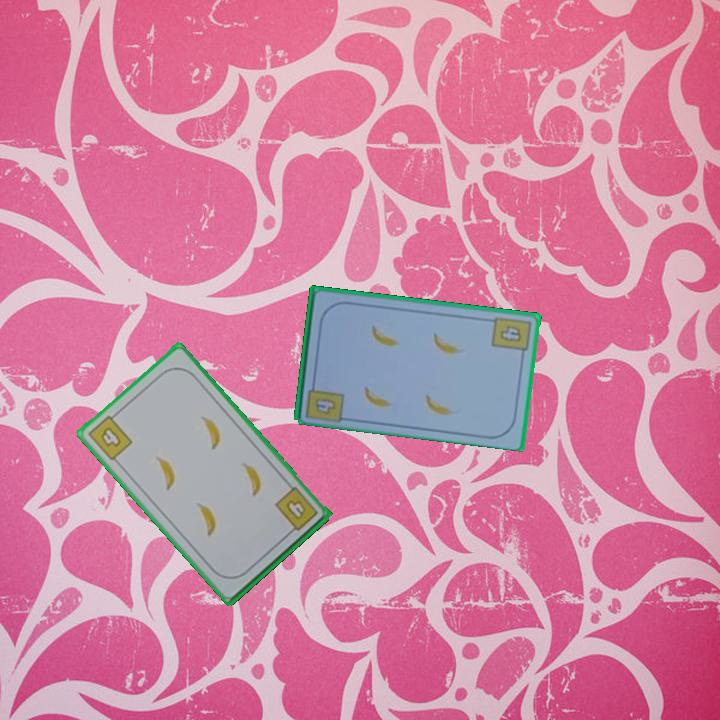4b: (84, 408, 135, 464), (271, 483, 321, 538), (488, 313, 533, 360), (312, 394, 339, 417)
